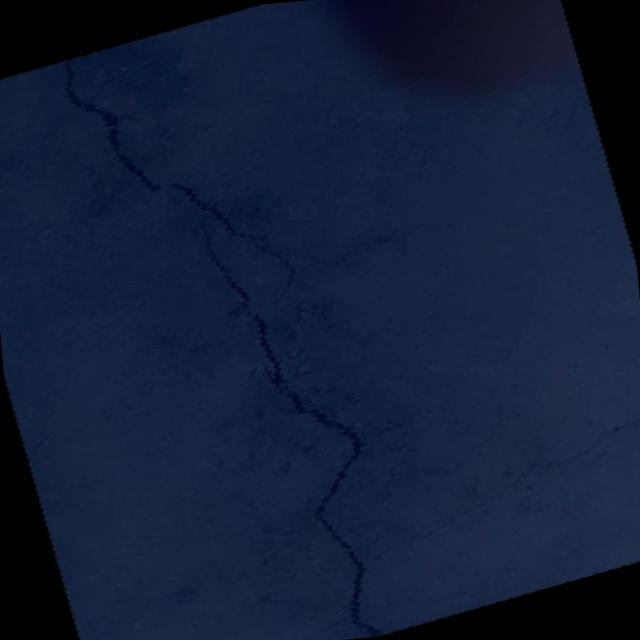crack: (190, 107, 640, 640), (166, 154, 304, 328), (55, 42, 164, 210)
